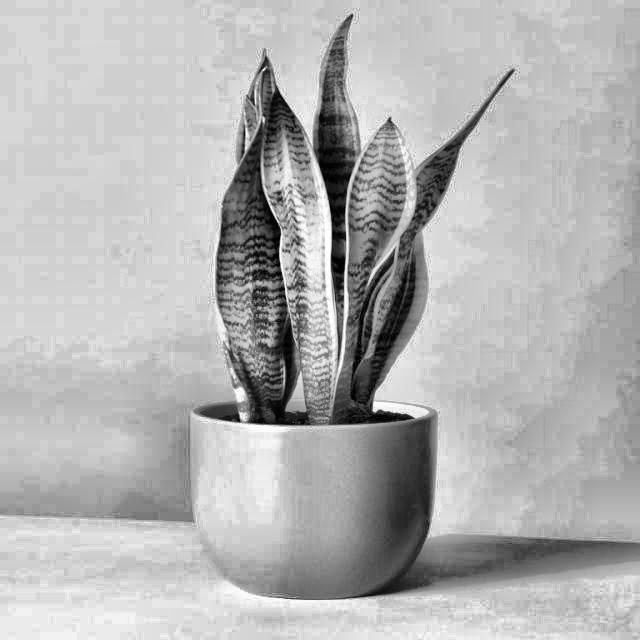plants: (209, 12, 530, 424)
